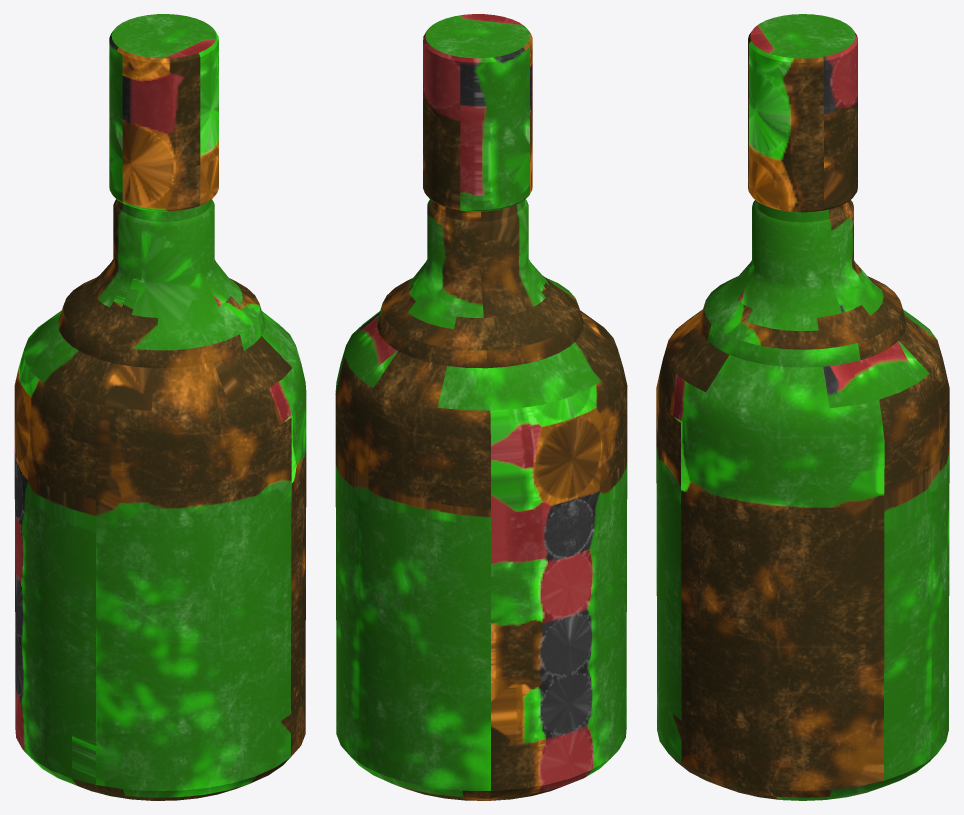
The model's file is Draher.fbx.
3 renders of one model, left to right at view 1: azimuth 30°, elevation 25°; view 2: azimuth 150°, elevation 25°; view 3: azimuth 270°, elevation 25°, orthographic.
Parts seen in each view (by area): view 1: Cylinder.006; view 2: Cylinder.006; view 3: Cylinder.006.
Boxes of the visible parts, x1=… form: Cylinder.006: x1=14, y1=14, x2=306, y2=800; Cylinder.006: x1=335, y1=14, x2=627, y2=800; Cylinder.006: x1=656, y1=14, x2=949, y2=800.
Size of the model in its own units: 15.79 by 42.61 by 15.79.
